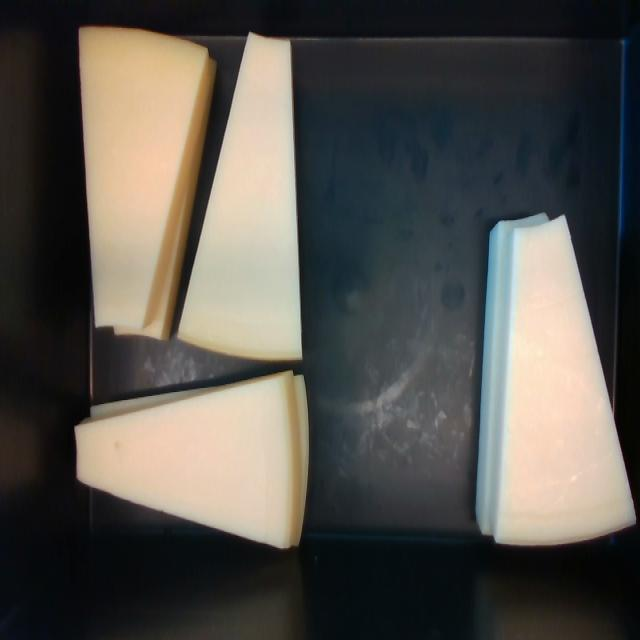cheese: (497, 216, 634, 541), (175, 33, 301, 360), (76, 371, 294, 549), (80, 28, 206, 325)
